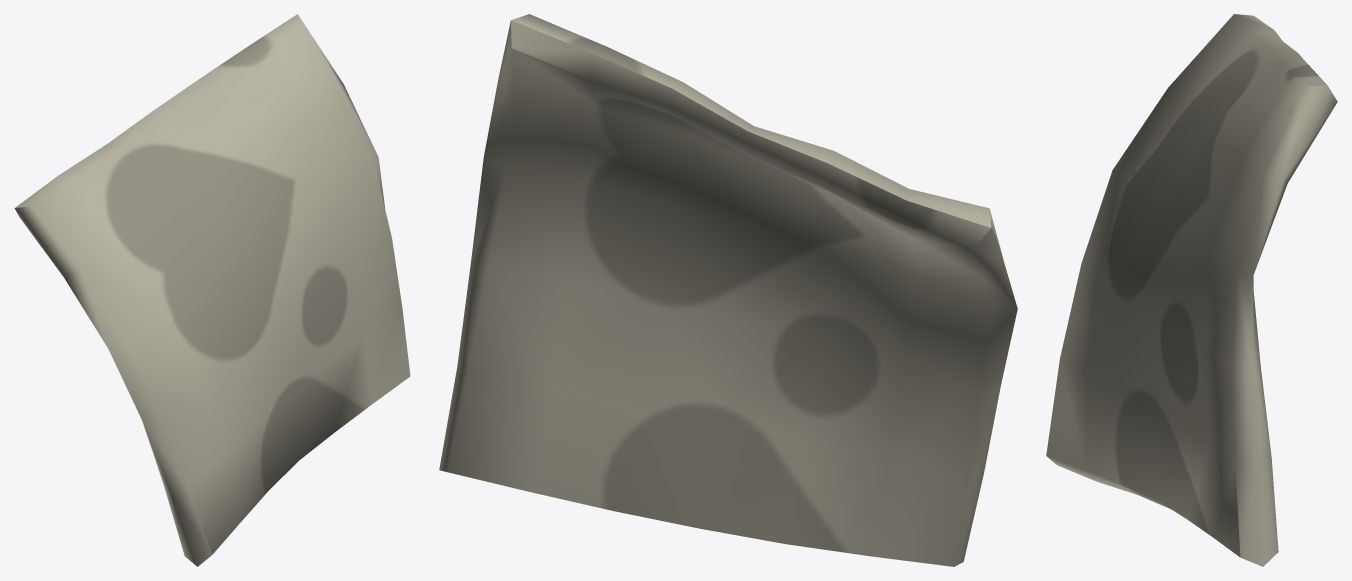
File: p_mesh_destruct_toiletpaper_pose2.fbx
3 renders of one model, left to right at view 1: azimuth 30°, elevation 25°; view 2: azimuth 150°, elevation 25°; view 3: azimuth 270°, elevation 25°, orthographic. The views are drawn at different scales.
Visible parts, largest first — view 1: hammer_bubblewrap_blendshape_pose2; view 2: hammer_bubblewrap_blendshape_pose2; view 3: hammer_bubblewrap_blendshape_pose2.
Part boxes in pixels (bbox=[...]): hammer_bubblewrap_blendshape_pose2: bbox=[14, 14, 410, 566]; hammer_bubblewrap_blendshape_pose2: bbox=[439, 14, 1017, 566]; hammer_bubblewrap_blendshape_pose2: bbox=[1046, 14, 1337, 566].
Size of the model in its own units: 1.92 by 1.96 by 1.03.
